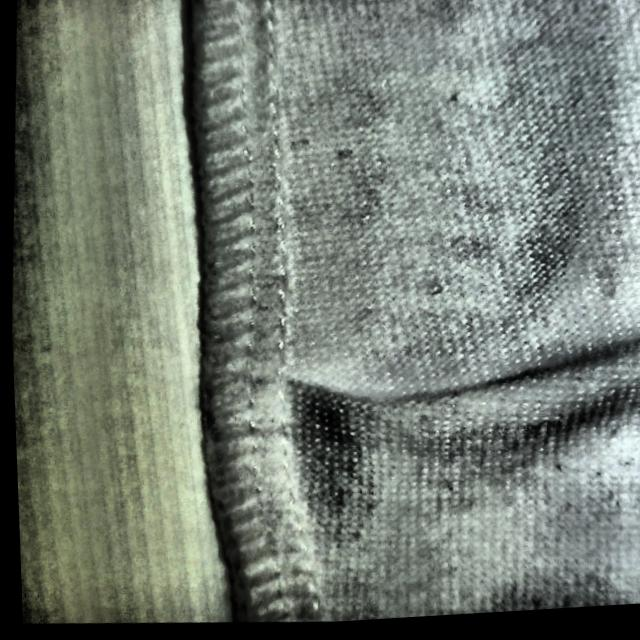seam: (194, 335, 539, 494)
